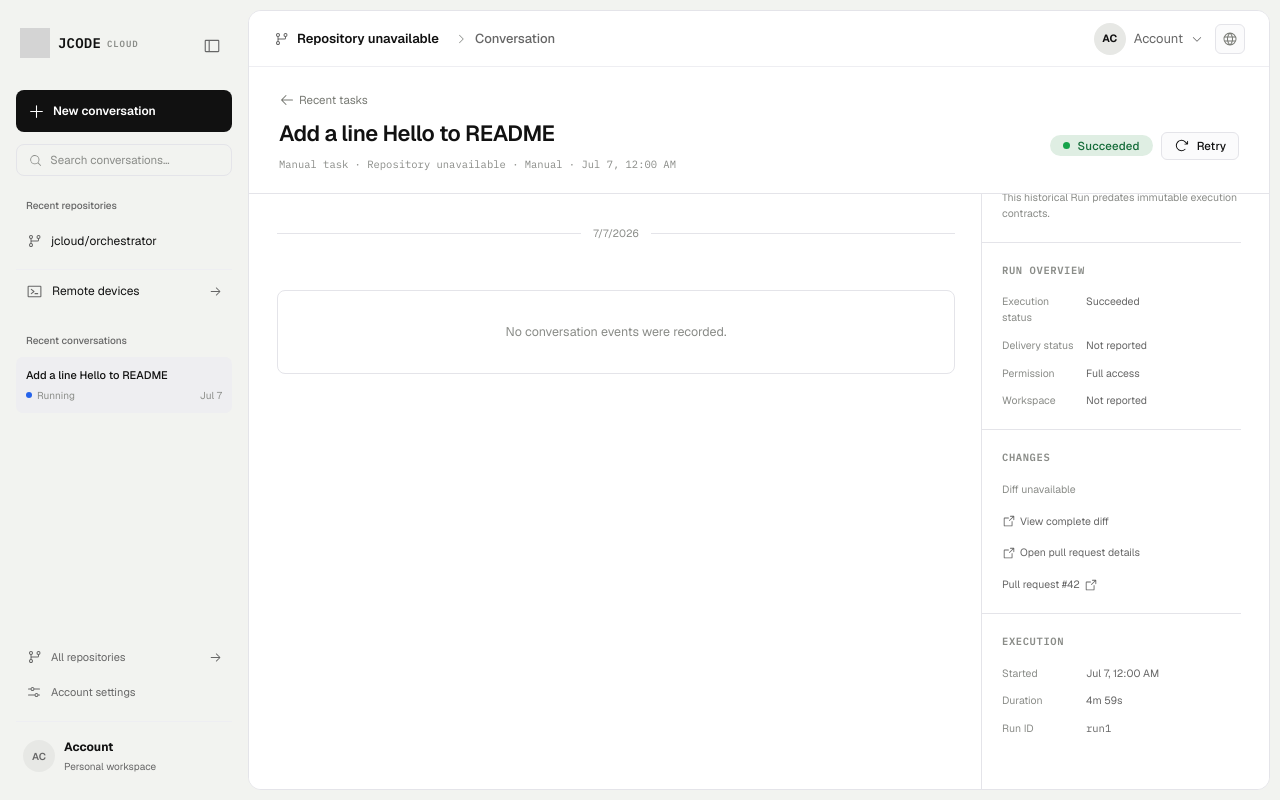
it: RunDetailPage — PR tab + review runs (blueprint §5) › shows a PR tab for an agent run with a PR and renders the PR panel
(page scrolled)
Click the button with test id "tab-pr".
click(1071, 553)  # box [1002,545,1140,561]
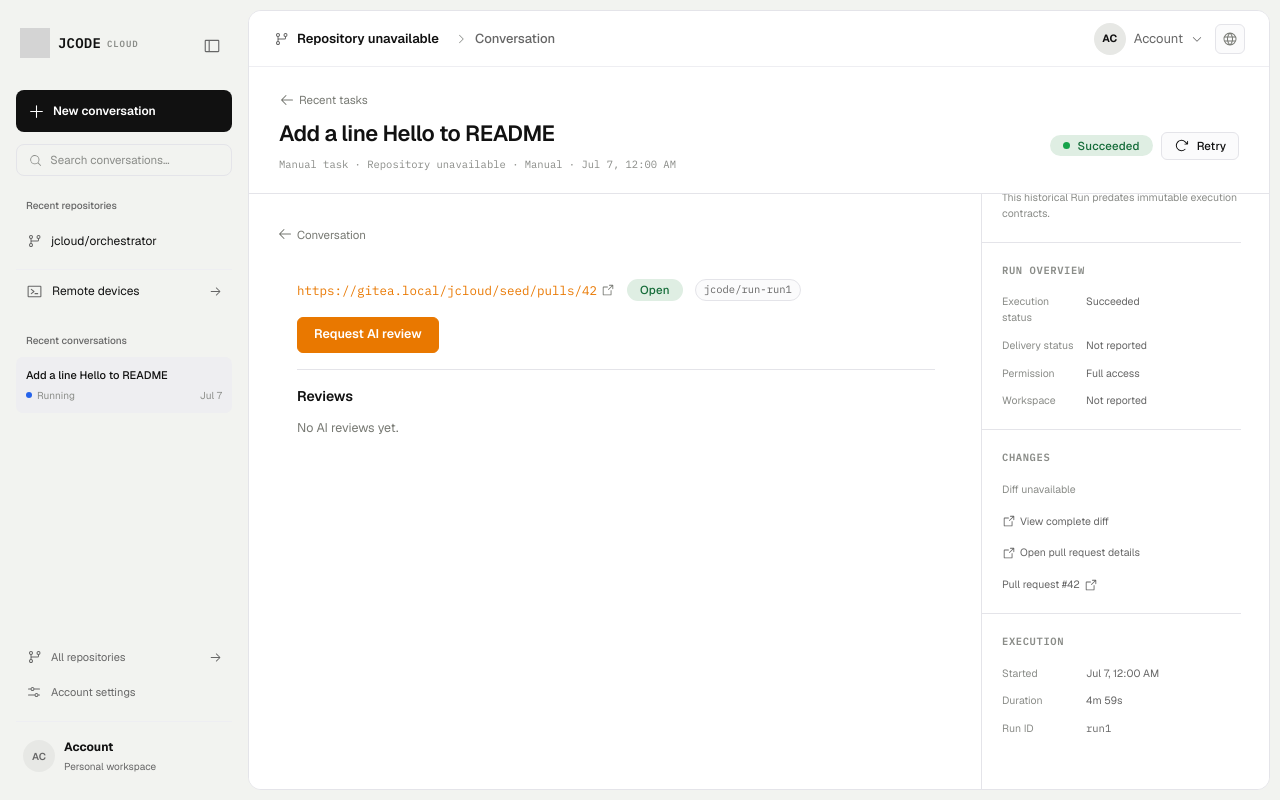
Expected: the element with test id "pr-panel" is shown, [277,259,955,458]
Expected: the link with test id "pr-external-link" is shown, [297,280,615,299]
